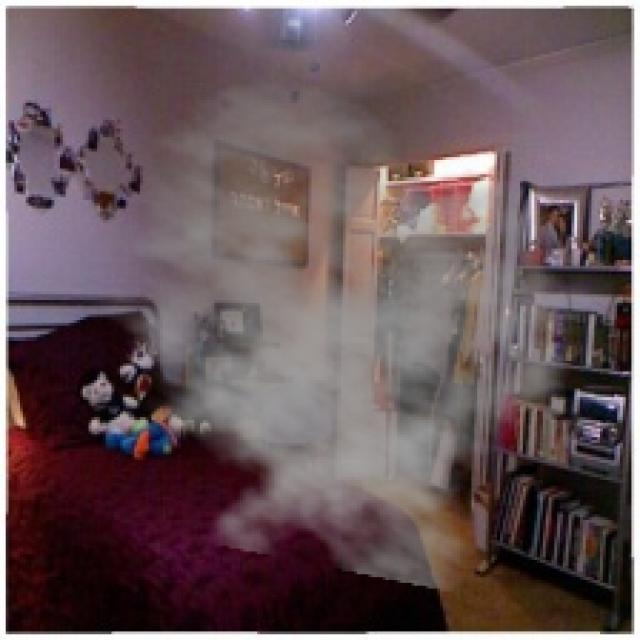smoke: (74, 77, 597, 594)
